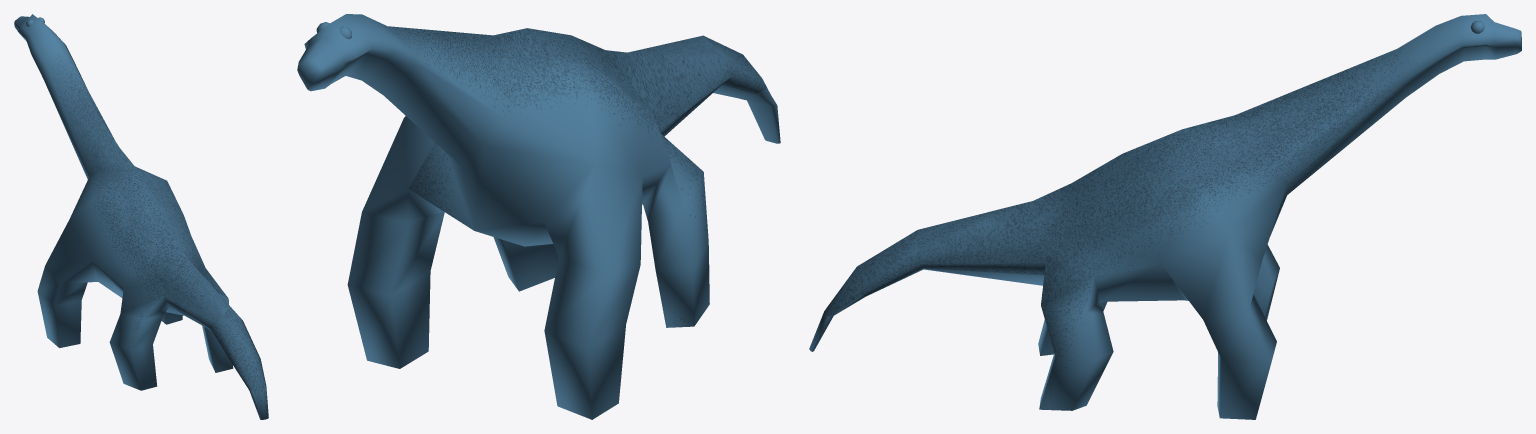
File: Brachiosaurus_Model.FBX
The picture shows the model from 3 angles, left to right: view 1: azimuth 30°, elevation 25°; view 2: azimuth 150°, elevation 25°; view 3: azimuth 270°, elevation 25°; orthographic projection. The views are drawn at different scales.
Parts seen in each view (by area): view 1: Brachiousaurus_Body; view 2: Brachiousaurus_Body; view 3: Brachiousaurus_Body.
Boxes of the visible parts, <box> form: Brachiousaurus_Body: <box>14,14,268,419</box>; Brachiousaurus_Body: <box>297,14,780,419</box>; Brachiousaurus_Body: <box>809,14,1521,419</box>.
Bounding box in the file's own units: 582 × 1051 × 1858.
